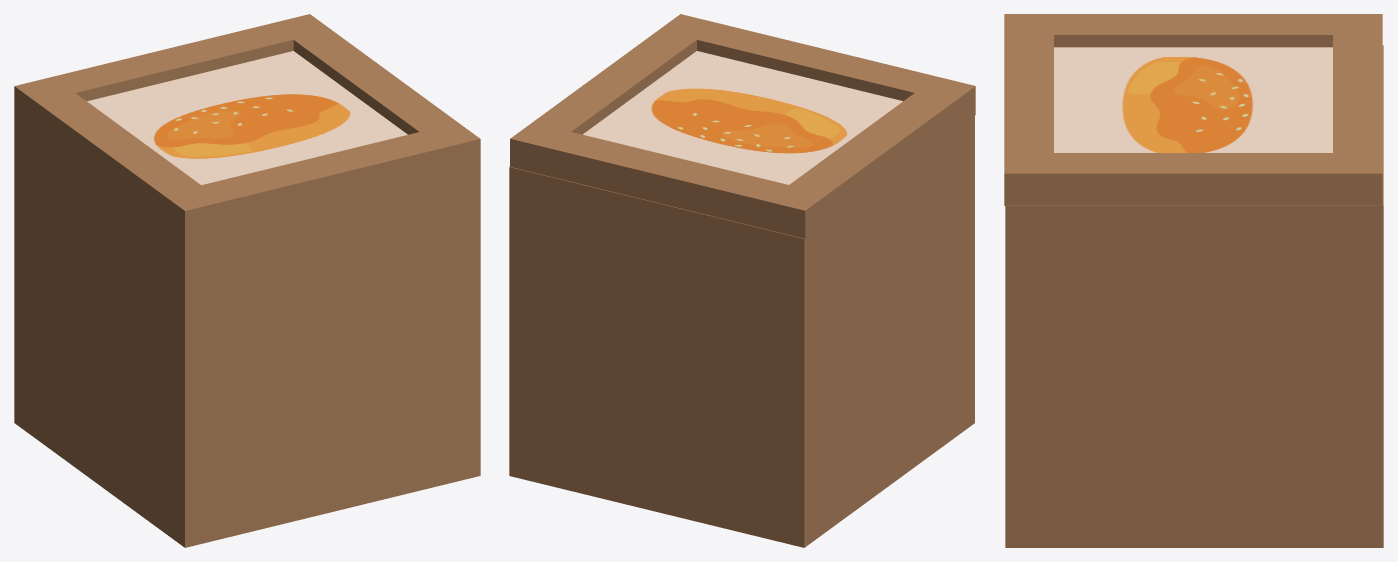
Rendered from food_bread animation_close static.fbx.
The picture shows the model from 3 angles, left to right: view 1: azimuth 30°, elevation 25°; view 2: azimuth 150°, elevation 25°; view 3: azimuth 270°, elevation 25°; orthographic projection. The views are drawn at different scales.
Parts seen in each view (by area): view 1: Cube, Cube.001; view 2: Cube, Cube.001; view 3: Cube, Cube.001.
Part boxes in pixels (bbox=[...]): Cube: bbox=[14, 115, 480, 547]; Cube.001: bbox=[14, 14, 480, 239]; Cube: bbox=[509, 116, 974, 547]; Cube.001: bbox=[510, 14, 975, 239]; Cube: bbox=[1005, 45, 1383, 547]; Cube.001: bbox=[1004, 14, 1382, 205].
Bounding box in the file's own units: 200 × 218 × 201.
